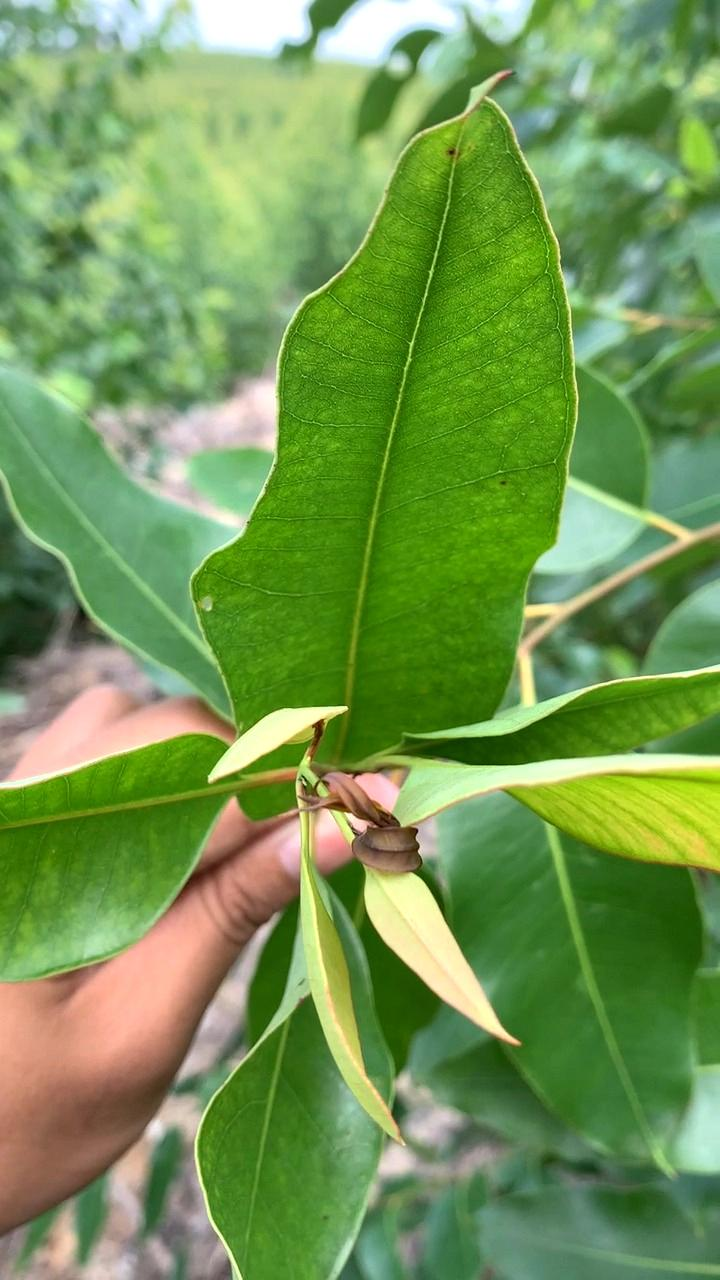Helopeltis-Withered Sprout: (307, 762, 422, 870)
